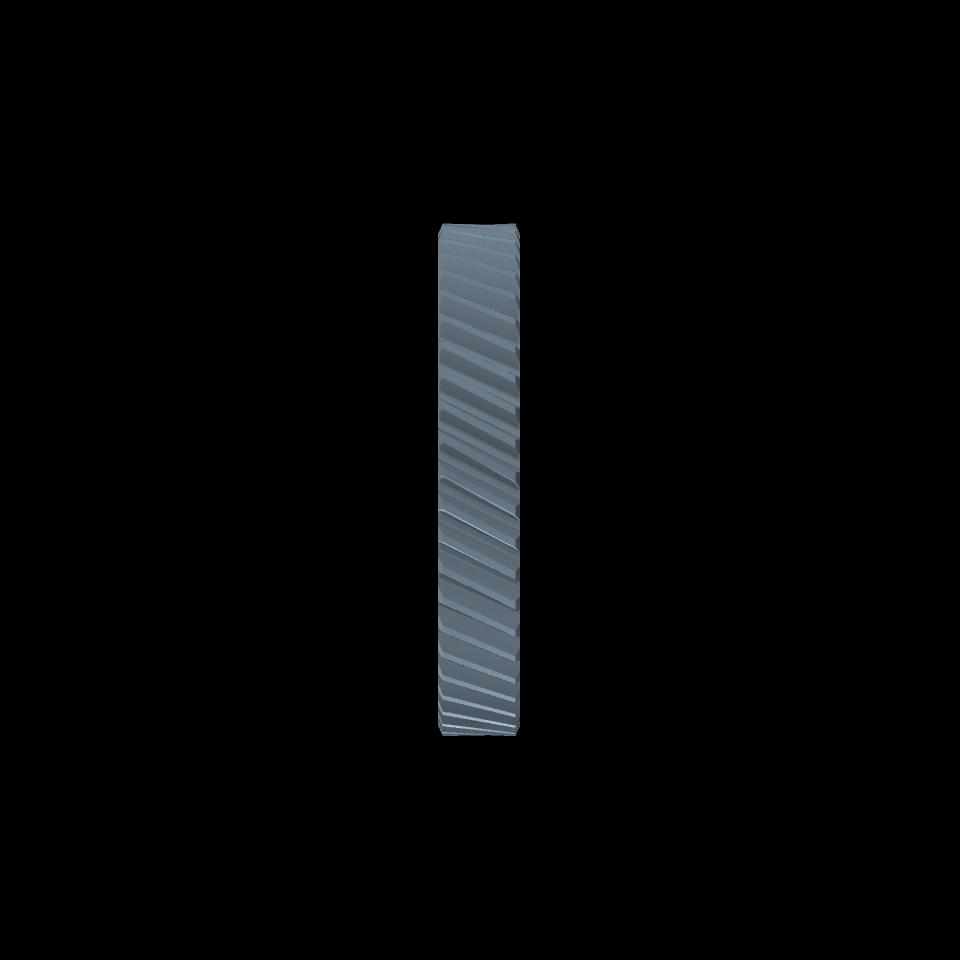Helical: (445, 223, 515, 735)
